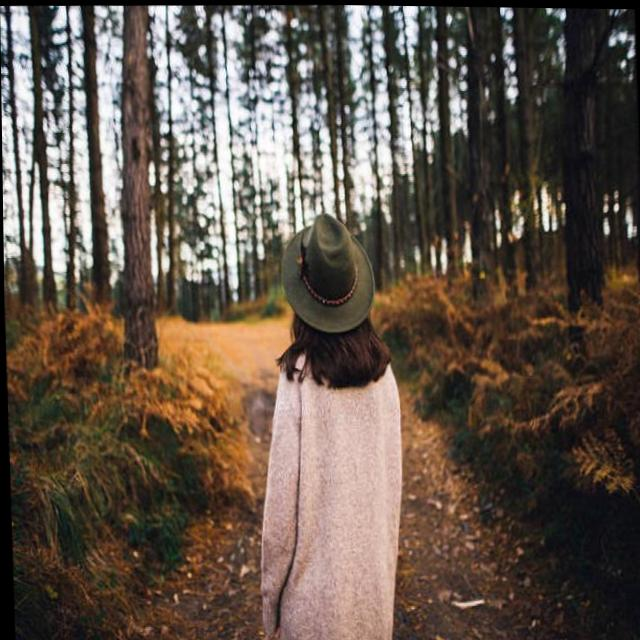no helmet: (272, 206, 394, 375)
